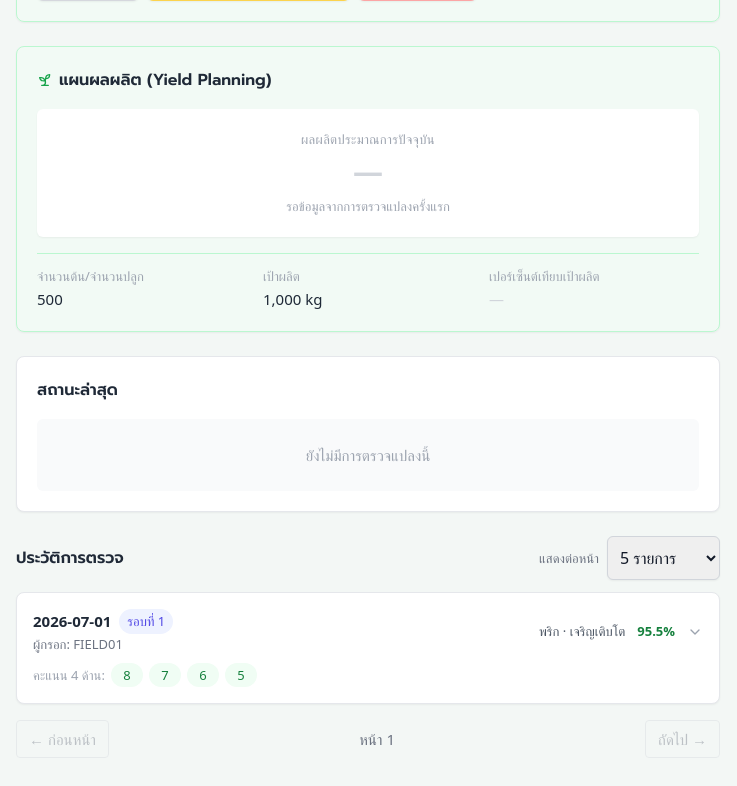
Scenario: PlotDetail — protocol snapshot labels (round 5.3) › expanded history row shows the phone-access attribution for a public-flow record (round 8-3E)
The width and height of the screenshot is (737, 786).
(page scrolled)
Expected: the text "คะแนน 4 ด้าน:" is shown, [33, 665, 105, 685]
Step 1. Click the text "2026-07-01" → [72, 621], box [33, 609, 111, 633]
(page scrolled)
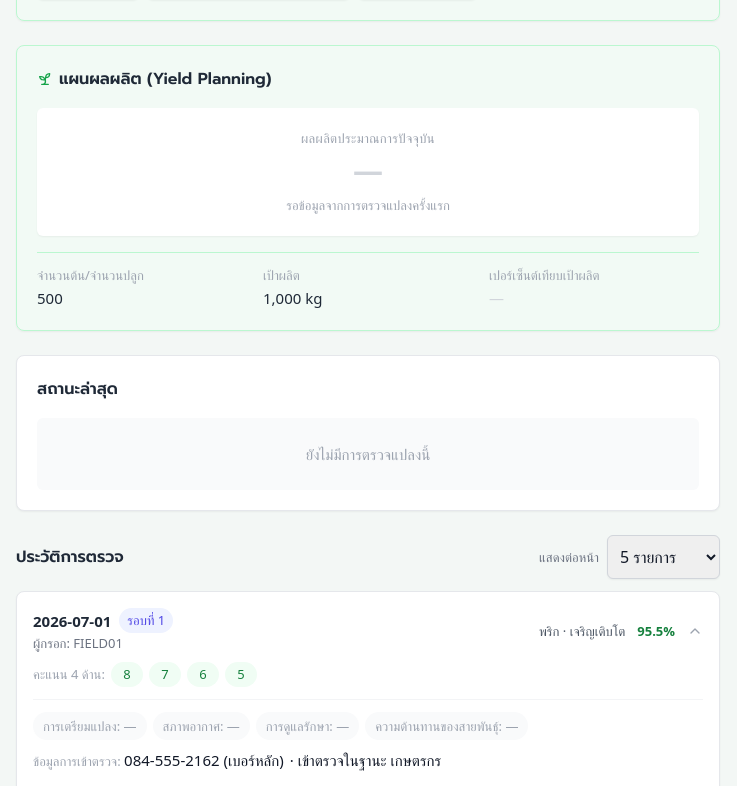
Expected: the text "084-555-2162 (เบอร์หลัก)" is shown, [124, 750, 284, 770]
Expected: the text "· เข้าตรวจในฐานะ เกษตรกร" is shown, [290, 750, 441, 770]
